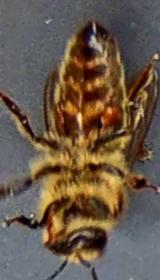varroa_mite: (91, 94, 125, 130), (42, 98, 72, 136)
